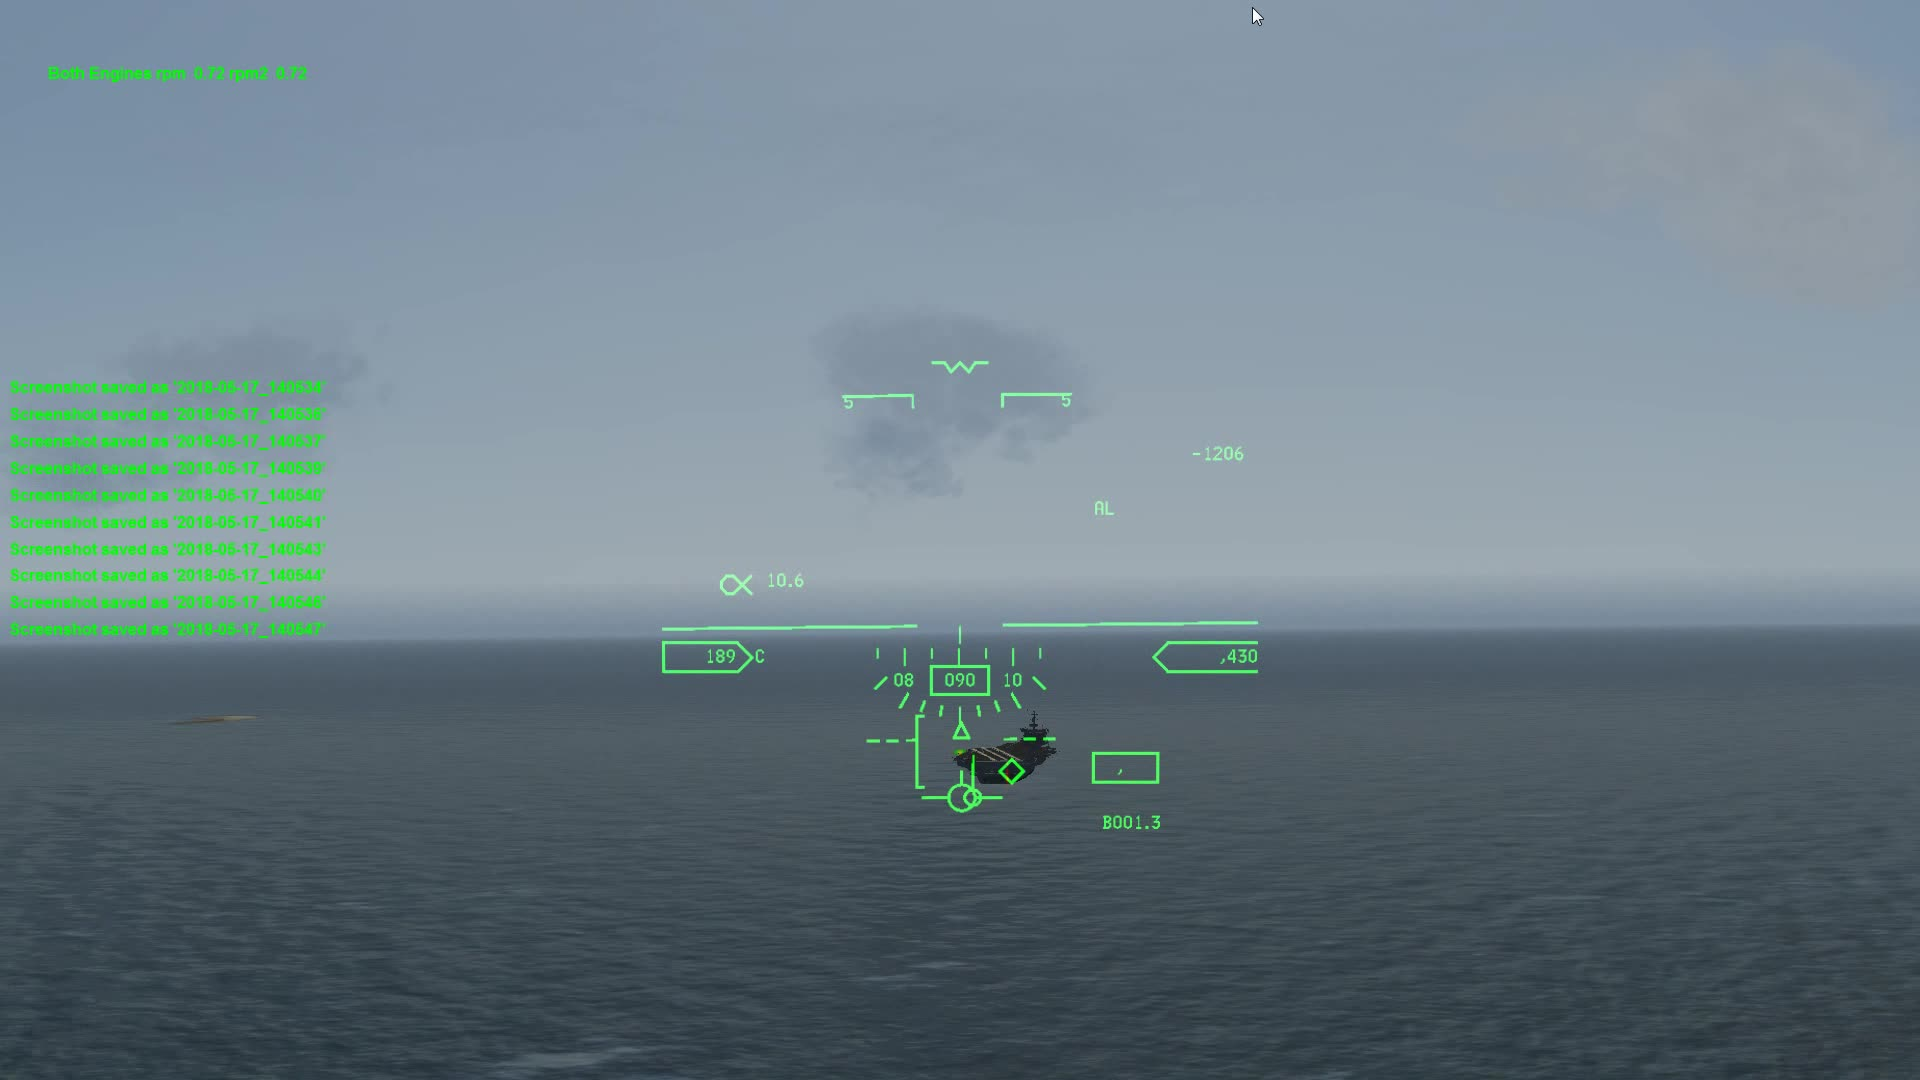speed vector: (923, 771, 1000, 814)
